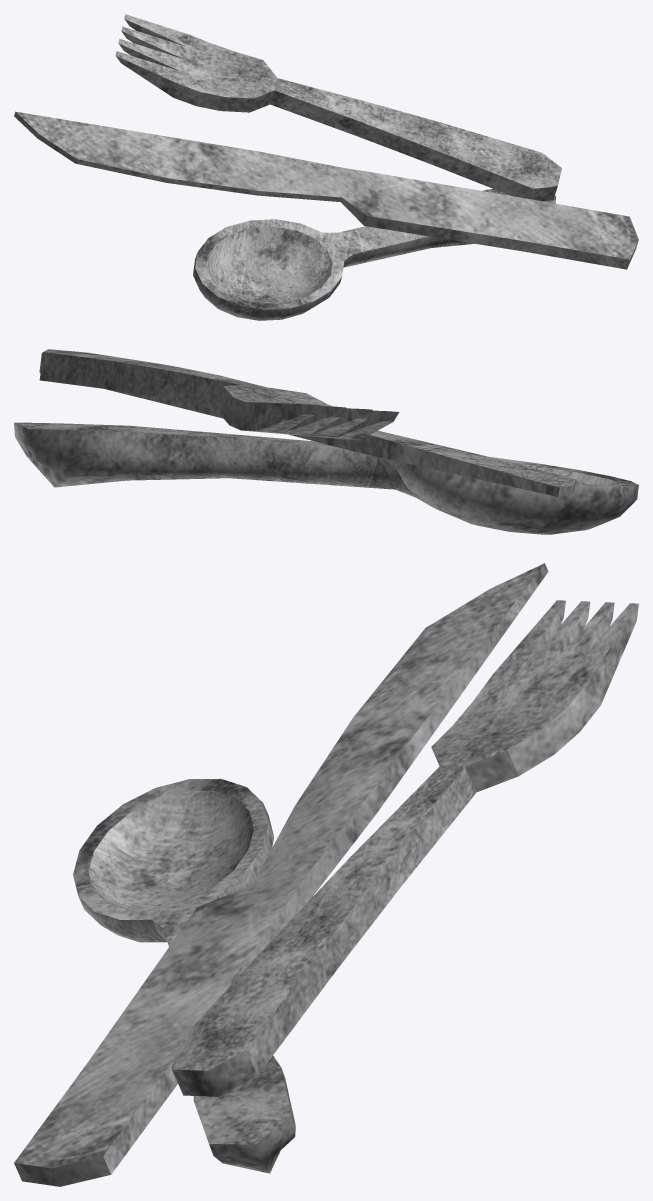
The model's file is Ustenciles_R.obj.
3 views of the same model, one above another, from view 1: azimuth 30°, elevation 25°; view 2: azimuth 150°, elevation 25°; view 3: azimuth 270°, elevation 25° (orthographic). The views are drawn at different scales.
Parts seen in each view (by area): view 1: ustenciles; view 2: ustenciles; view 3: ustenciles.
Part boxes in pixels (box(x1,y1,x2,y2)): ustenciles: box(14, 14, 638, 320); ustenciles: box(14, 349, 638, 534); ustenciles: box(14, 563, 638, 1186).
Bounding box in the file's own units: 94.36 × 38.73 × 64.25.
1 material, 1 textured.
